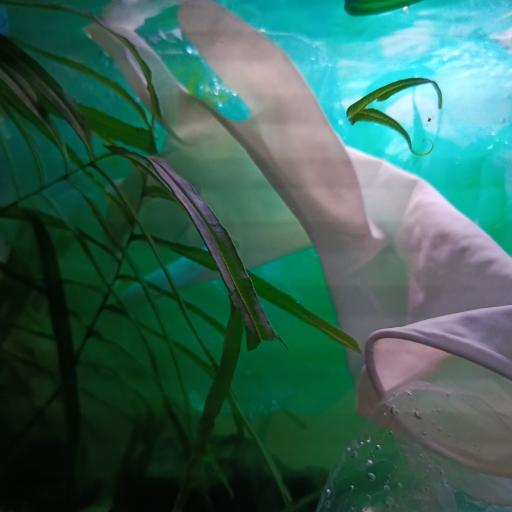bottle_cap: (344, 0, 423, 18)
glove: (82, 0, 512, 479)
plastic_bag: (121, 32, 512, 415), (318, 380, 512, 512)
